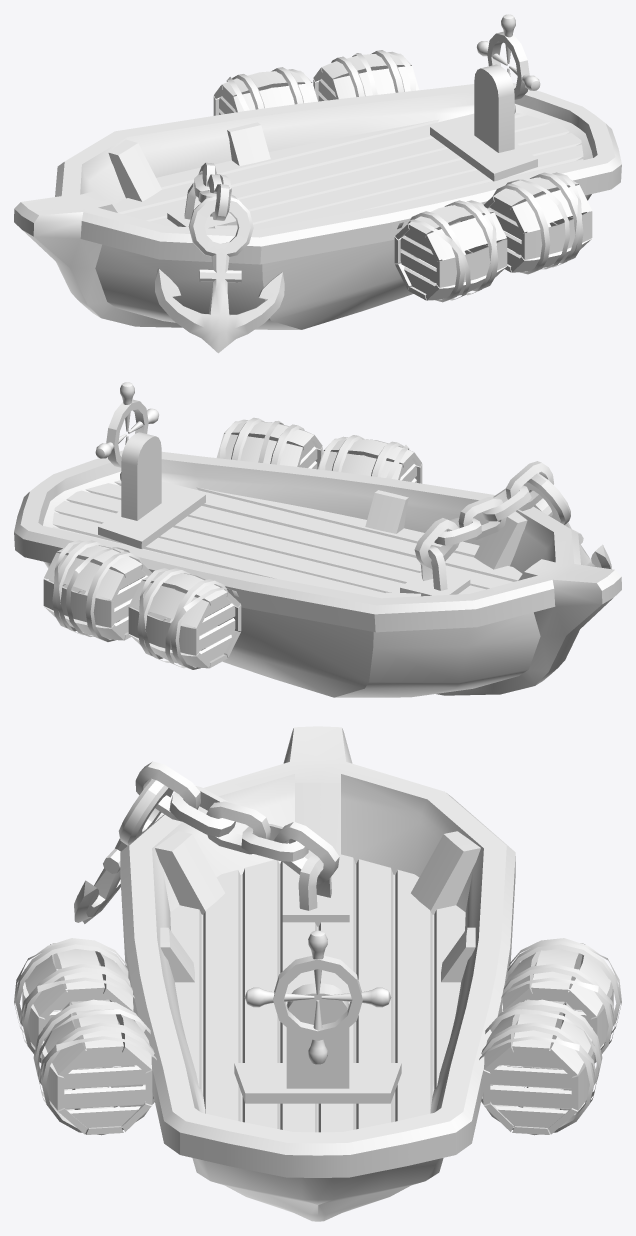
Rendered from Boat.obj.
3 views of the same model, one above another, from view 1: azimuth 30°, elevation 25°; view 2: azimuth 150°, elevation 25°; view 3: azimuth 270°, elevation 25° (orthographic). The views are drawn at different scales.
Visible parts, largest first — view 1: Ship_Small; view 2: Ship_Small; view 3: Ship_Small.
Boxes of the visible parts, x1=… form: Ship_Small: x1=14, y1=14, x2=621, y2=353; Ship_Small: x1=14, y1=382, x2=621, y2=697; Ship_Small: x1=14, y1=726, x2=621, y2=1221.
Bounding box in the file's own units: 5.15 × 1.99 × 3.6.
1 material, 1 textured.
